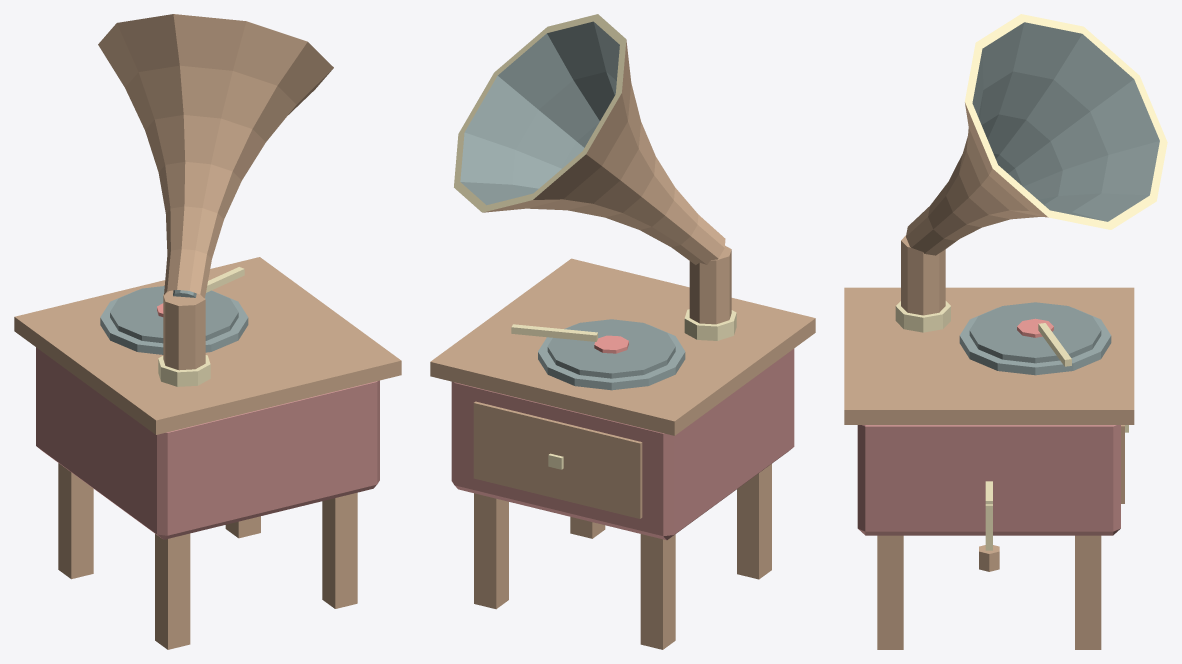
Rendered from gramophone.glb.
3 renders of one model, left to right at view 1: azimuth 30°, elevation 25°; view 2: azimuth 150°, elevation 25°; view 3: azimuth 270°, elevation 25°, orthographic. The views are drawn at different scales.
Visible parts, largest first — view 1: Gramophone; view 2: Gramophone; view 3: Gramophone.
Part boxes in pixels (box(x1,y1,x2,y2)): Gramophone: box(14, 14, 401, 649); Gramophone: box(430, 14, 815, 649); Gramophone: box(844, 14, 1167, 649).
Size of the model in its own units: 0.48 by 0.8816 by 0.446.
